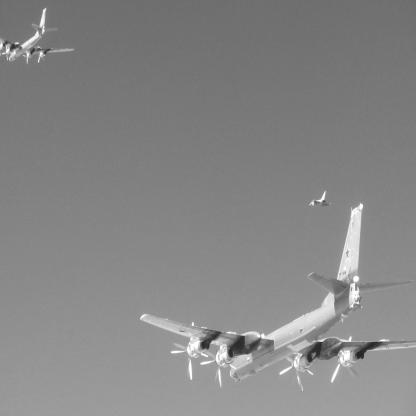EF2000: (310, 191, 333, 209)
Tu95: (141, 204, 416, 393), (2, 8, 77, 66)
